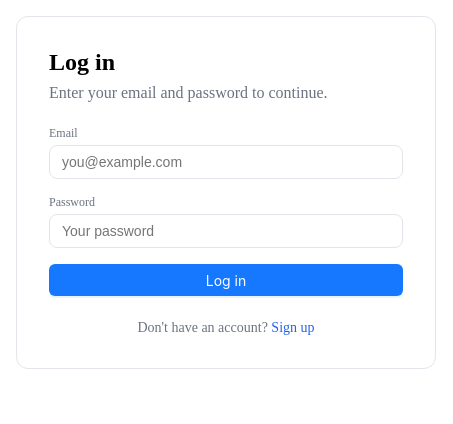
Test: LoginPage › shows validation errors for empty fields
The width and height of the screenshot is (453, 424).
Click the button with test id "login-submit": x=226, y=280 [49,264,403,296]
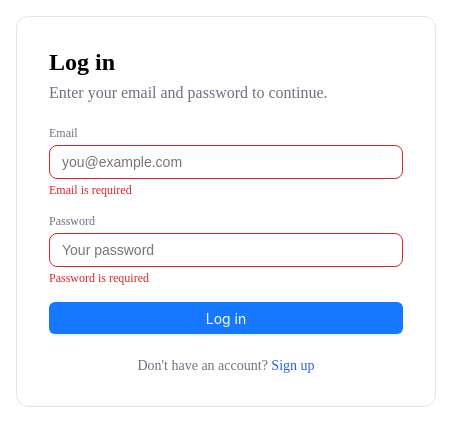
expect the text with test id "login-email-error" reads "Email is required": met, box [49,183,132,197]
expect the text with test id "login-password-error" reads "Password is required": met, box [49,271,149,285]
